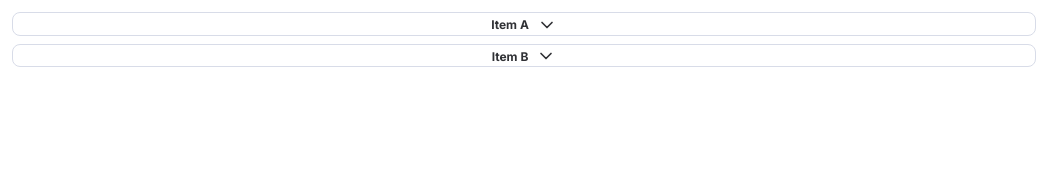
Test case: Accordion › expands on trigger click
The width and height of the screenshot is (1048, 172).
Click the button "Item A" at {"x": 524, "y": 25}, box [13,15,1035,35]
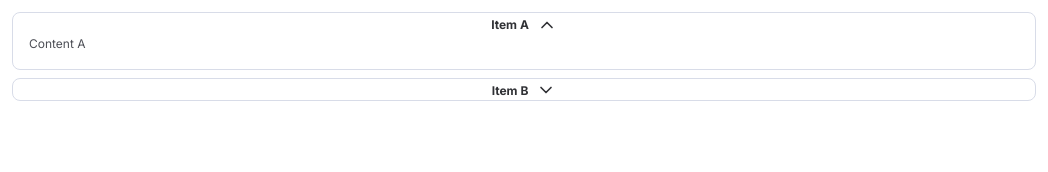
Check: the button "Item A" is expanded, box [13,15,1035,35]
